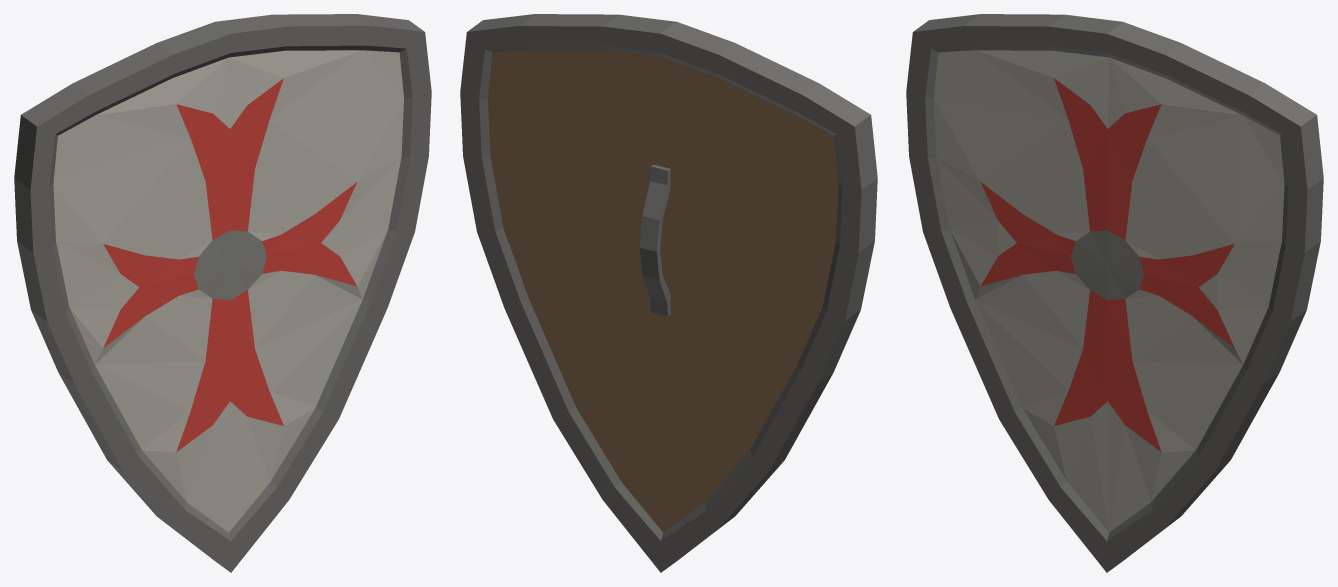
Rendered from SM_pwe_medieval_shield_03a.fbx.
3 views of the same model, side by side, from view 1: azimuth 30°, elevation 25°; view 2: azimuth 150°, elevation 25°; view 3: azimuth 330°, elevation 25° (orthographic).
Visible parts, largest first — view 1: SM_pwe_medieval_shield_03a; view 2: SM_pwe_medieval_shield_03a; view 3: SM_pwe_medieval_shield_03a.
Part boxes in pixels (left/top/right/bottom): SM_pwe_medieval_shield_03a: left=14, top=14, right=431, bottom=572; SM_pwe_medieval_shield_03a: left=460, top=14, right=877, bottom=572; SM_pwe_medieval_shield_03a: left=906, top=14, right=1323, bottom=572.
Bounding box in the file's own units: 63.26 × 81.23 × 7.62.
